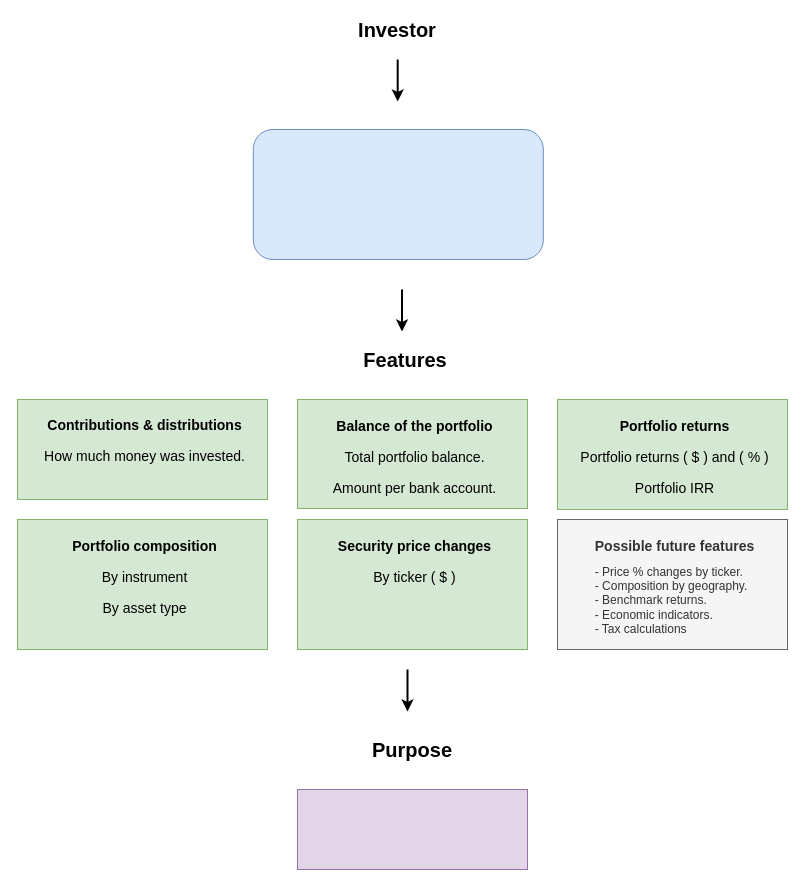
This 805x887 diagram has some shape labels left out. Each missing label, with the centre of its shape:
"Facilitate decisions on the Investment Portfolio" goes at [412,829].
"Portfolio Monitoring System Consolidate and analyze the investment portfolio." goes at [397,194].
